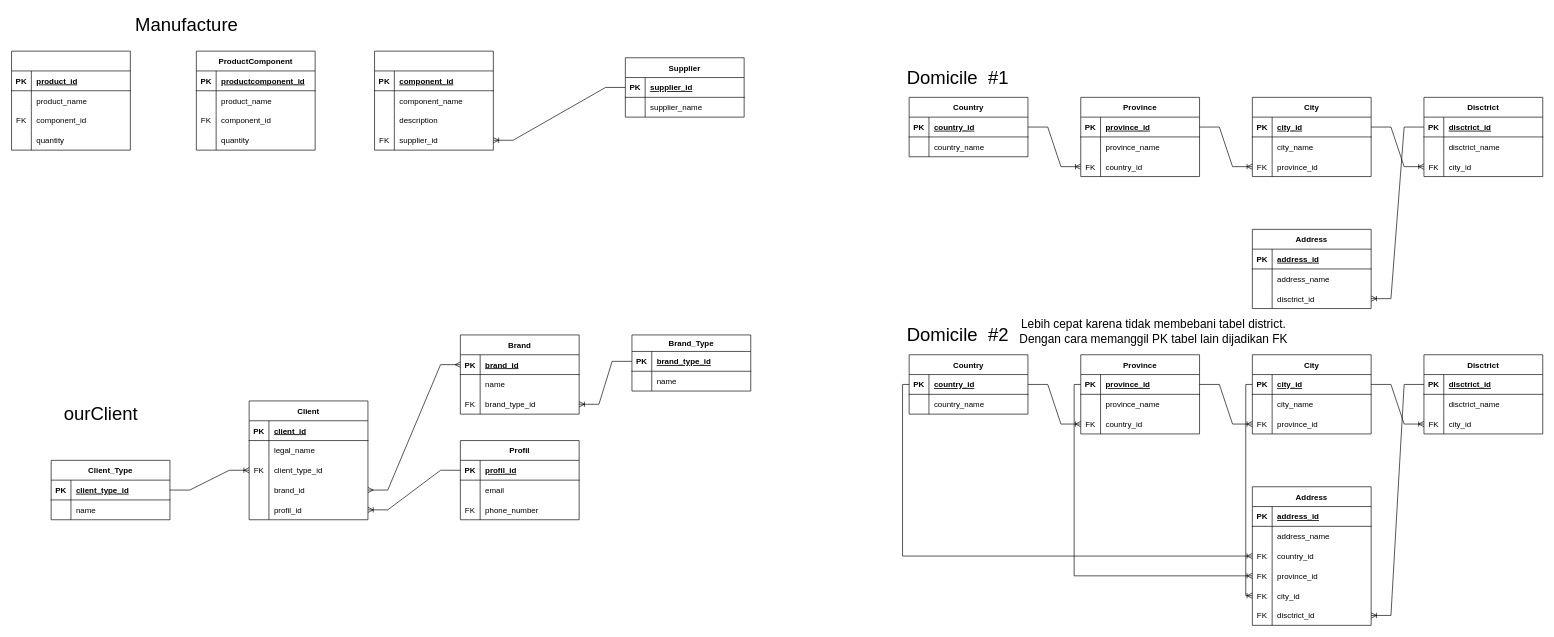
This 1554x637 diagram has some shape labels left out. The box of each missing label's shape, as (x1, y1, x2, y2) in pixels:
Komponen: (374, 50, 493, 150)
Produk: (11, 50, 130, 150)
